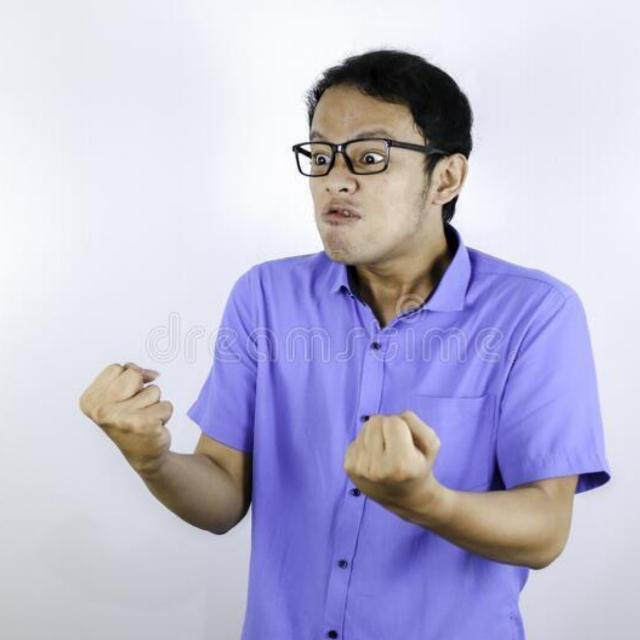angry: (216, 34, 513, 328)
